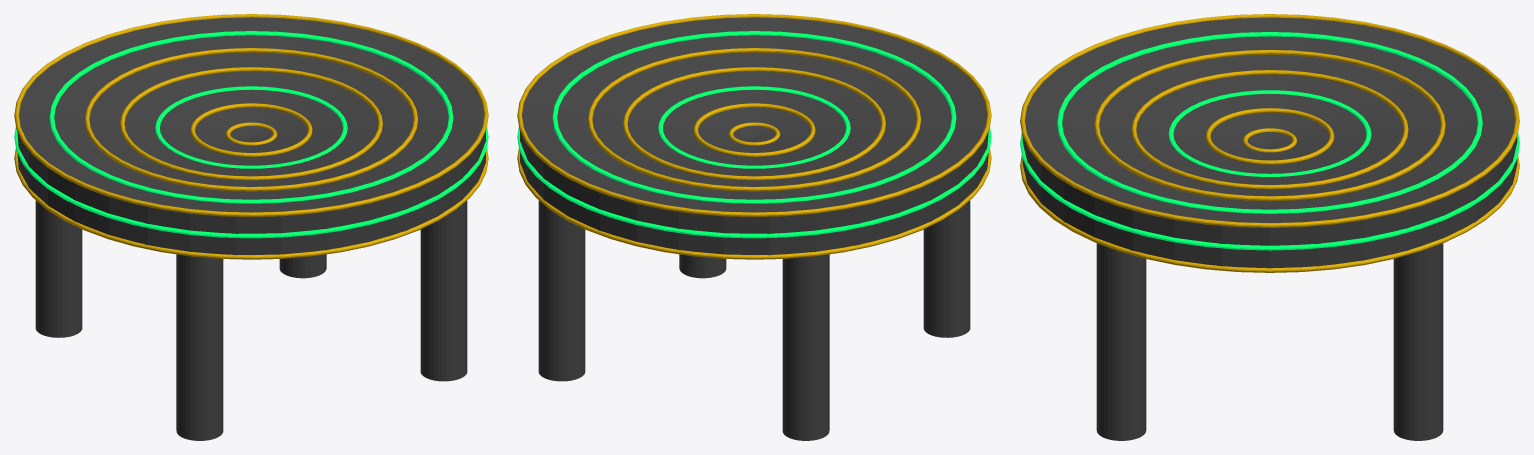
The model's file is MagicTable.fbx.
3 views of the same model, side by side, from view 1: azimuth 30°, elevation 25°; view 2: azimuth 150°, elevation 25°; view 3: azimuth 270°, elevation 25° (orthographic). The views are drawn at different scales.
Visible parts, largest first — view 1: Cylinder; view 2: Cylinder; view 3: Cylinder.
Boxes of the visible parts, bbox=[...] form: Cylinder: bbox=[14, 14, 488, 440]; Cylinder: bbox=[517, 14, 991, 440]; Cylinder: bbox=[1020, 14, 1519, 440].
Bounding box in the file's own units: 202 × 111 × 202.
